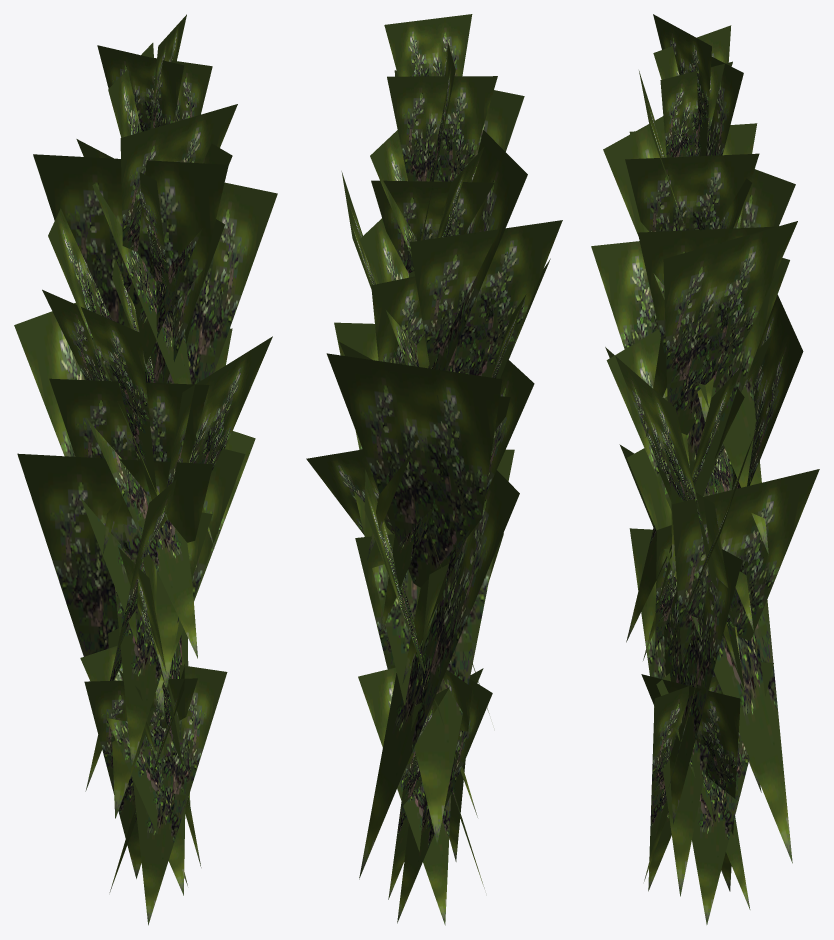
Rendered from tree_lumbardypoplar_f_top.glb.
3 renders of one model, left to right at view 1: azimuth 30°, elevation 25°; view 2: azimuth 150°, elevation 25°; view 3: azimuth 270°, elevation 25°, orthographic.
Parts seen in each view (by area): view 1: tree_lumbardypoplar_f_top; view 2: tree_lumbardypoplar_f_top; view 3: tree_lumbardypoplar_f_top.
Part boxes in pixels (x1,y1,x2,y2): tree_lumbardypoplar_f_top: (14,14,277,925); tree_lumbardypoplar_f_top: (306,14,562,925); tree_lumbardypoplar_f_top: (591,14,819,924).
Bounding box in the file's own units: 6 × 21.69 × 5.09.
Materials: 1 (1 with a texture image).
